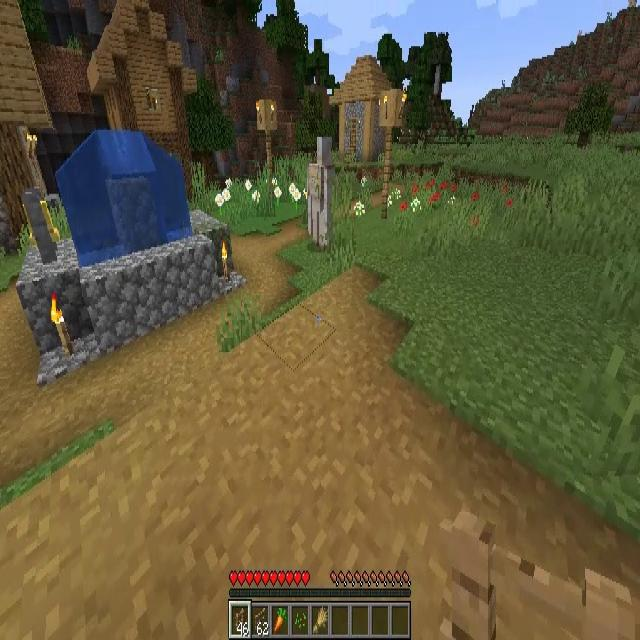flower: (291, 183, 301, 210)
people: (308, 138, 336, 248)
